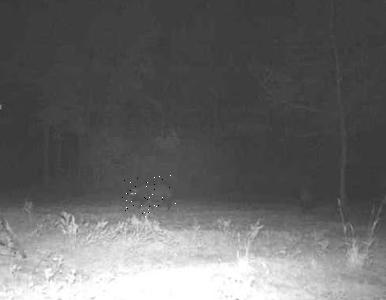Hog: (120, 175, 176, 217)
